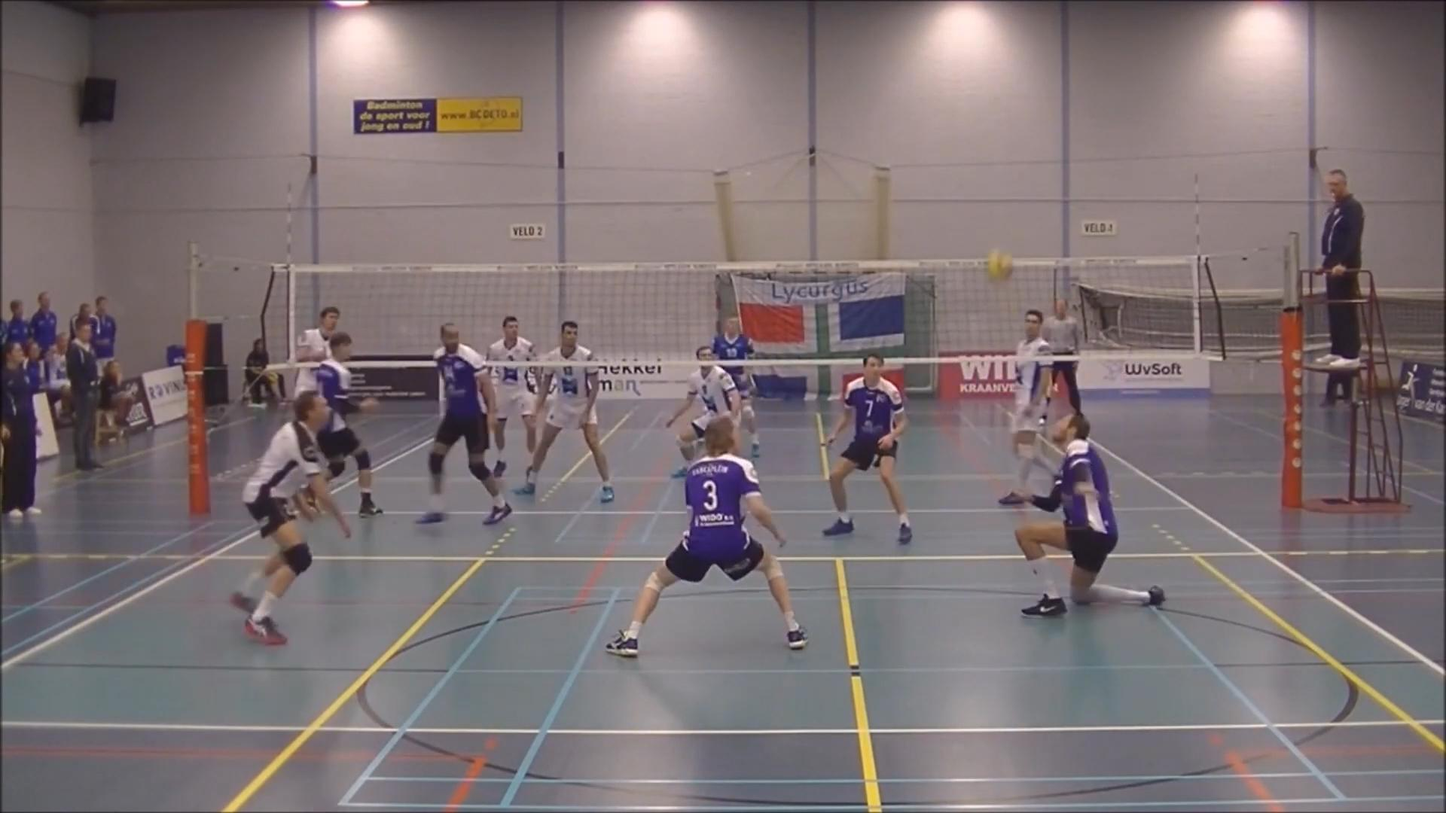Dig: (988, 406, 1182, 624)
Player: (606, 418, 807, 656), (231, 391, 350, 644), (418, 323, 511, 525), (514, 321, 615, 502), (823, 353, 911, 544), (314, 331, 382, 516), (999, 309, 1051, 505), (666, 346, 741, 478), (485, 317, 535, 477), (712, 317, 760, 458), (295, 306, 340, 364)
ball: (982, 251, 1015, 284)
